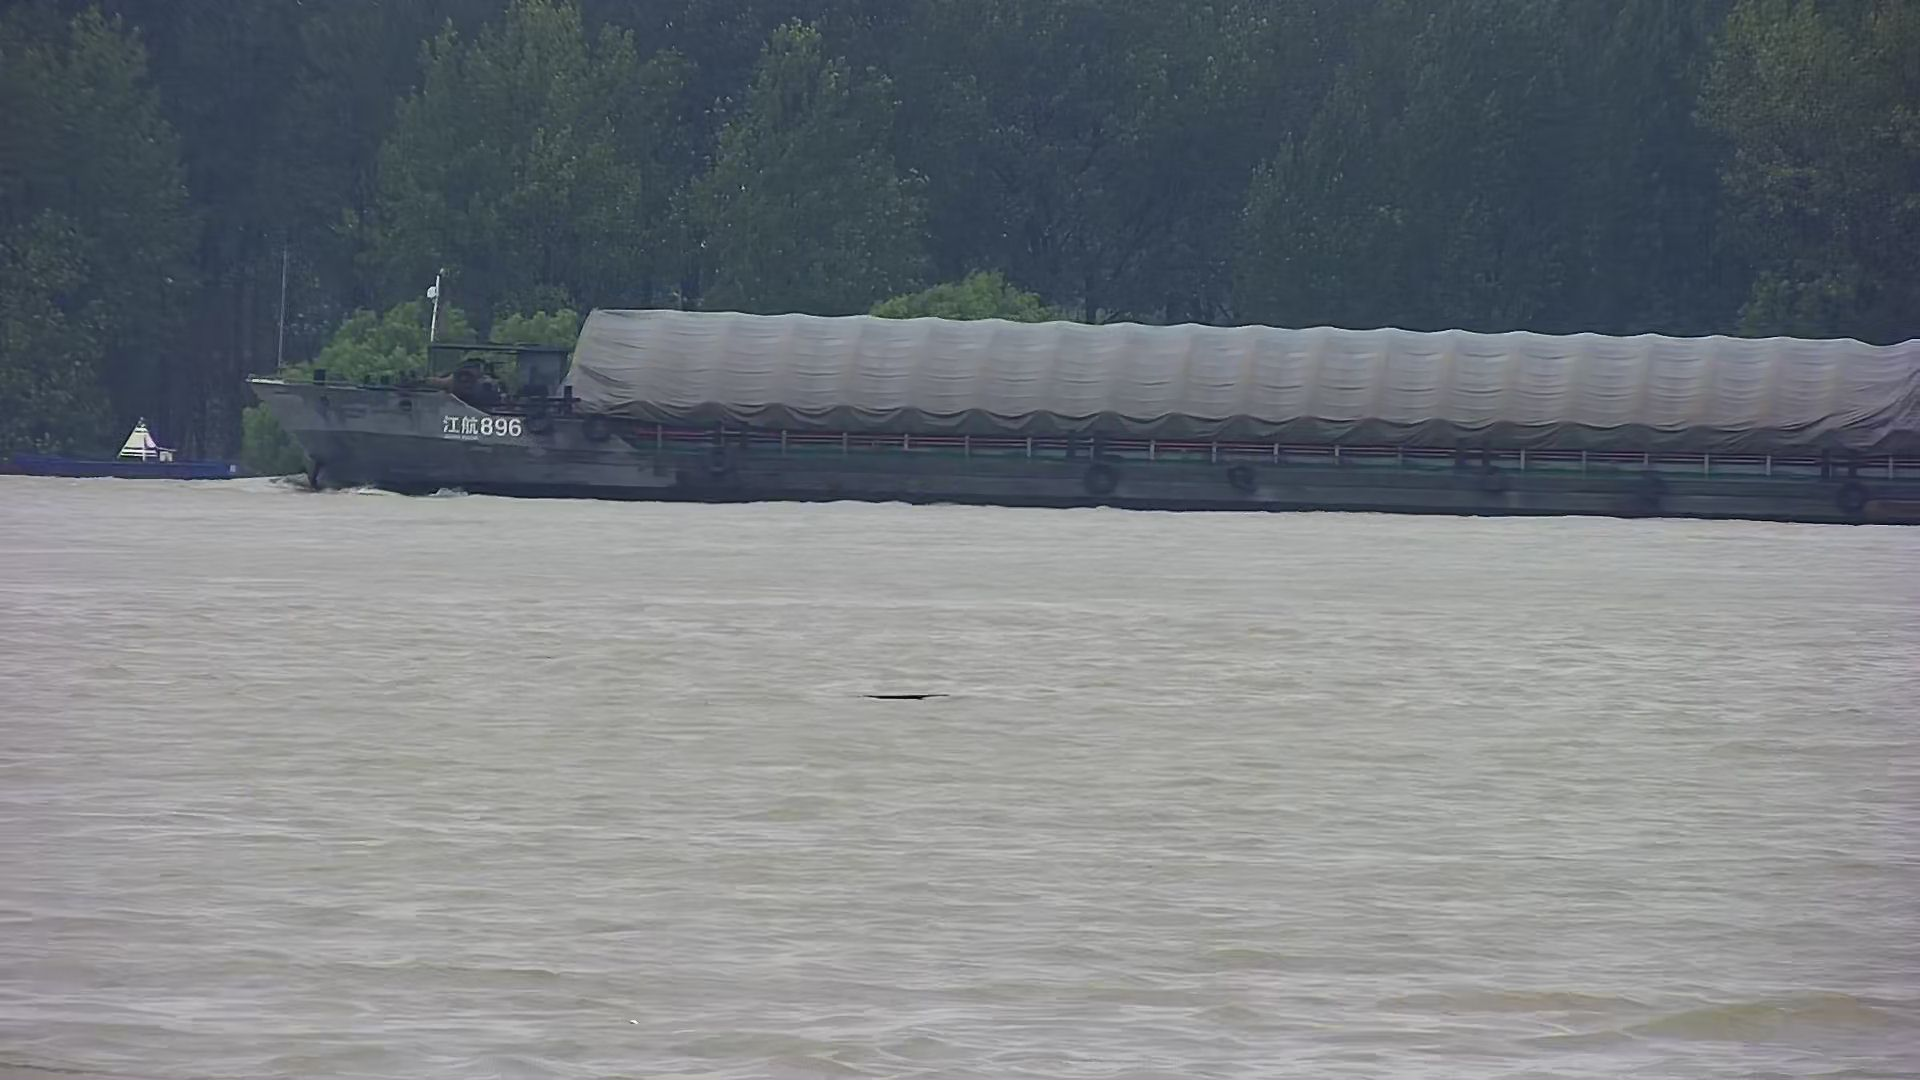boat: (18, 418, 235, 492)
ship: (245, 260, 1920, 545)
